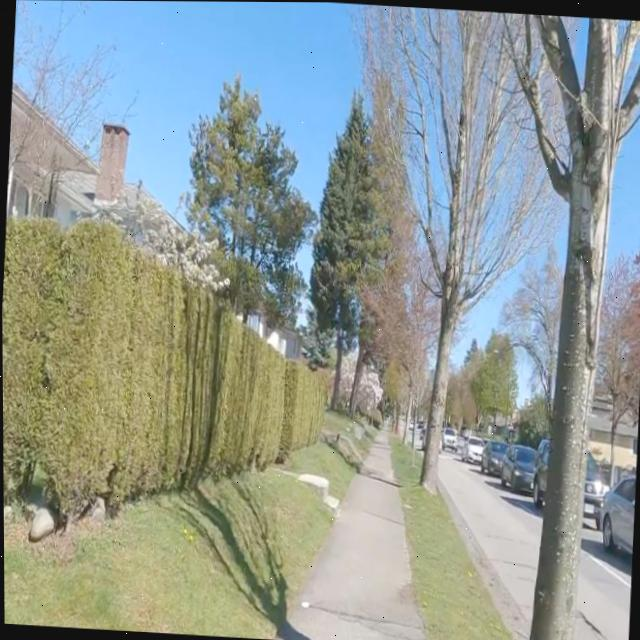Automobile: (598, 476, 635, 554), (584, 450, 607, 527), (500, 444, 535, 492), (532, 438, 548, 506), (480, 440, 507, 475), (460, 435, 482, 462), (442, 427, 457, 450)
Road: (439, 455, 540, 640), (573, 518, 631, 640)
Sidewalk: (277, 432, 424, 640)
